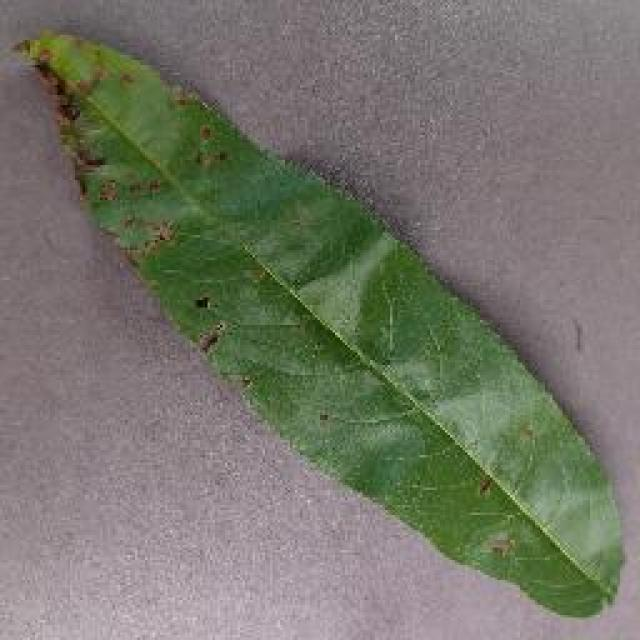Peach_Bacterial_Spot: (30, 30, 268, 292)
